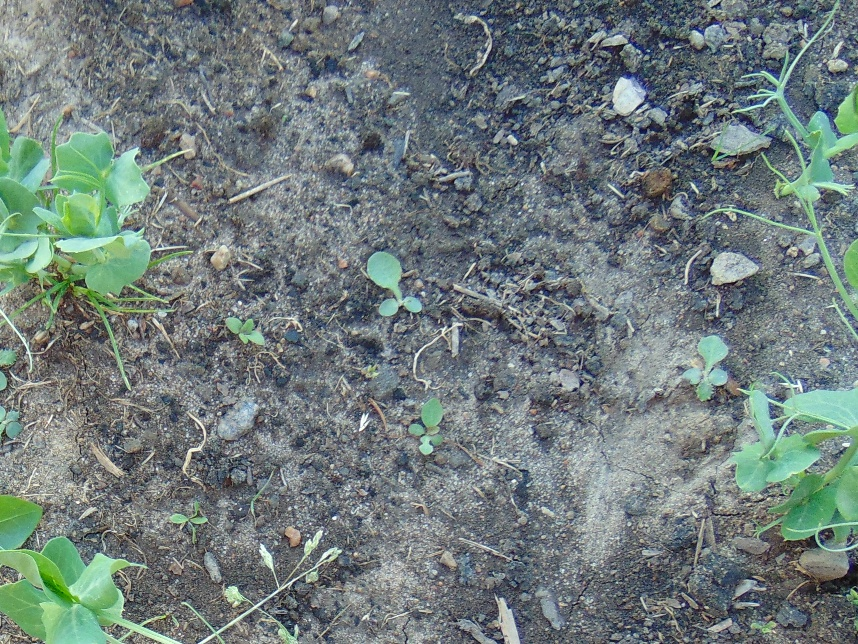crop: (1, 111, 154, 298), (734, 368, 858, 551), (1, 528, 144, 644)
weed: (366, 248, 422, 316), (38, 266, 105, 313), (683, 334, 729, 402), (1, 492, 42, 551), (407, 398, 445, 457), (1, 347, 20, 438), (226, 313, 264, 347), (172, 505, 208, 533)
